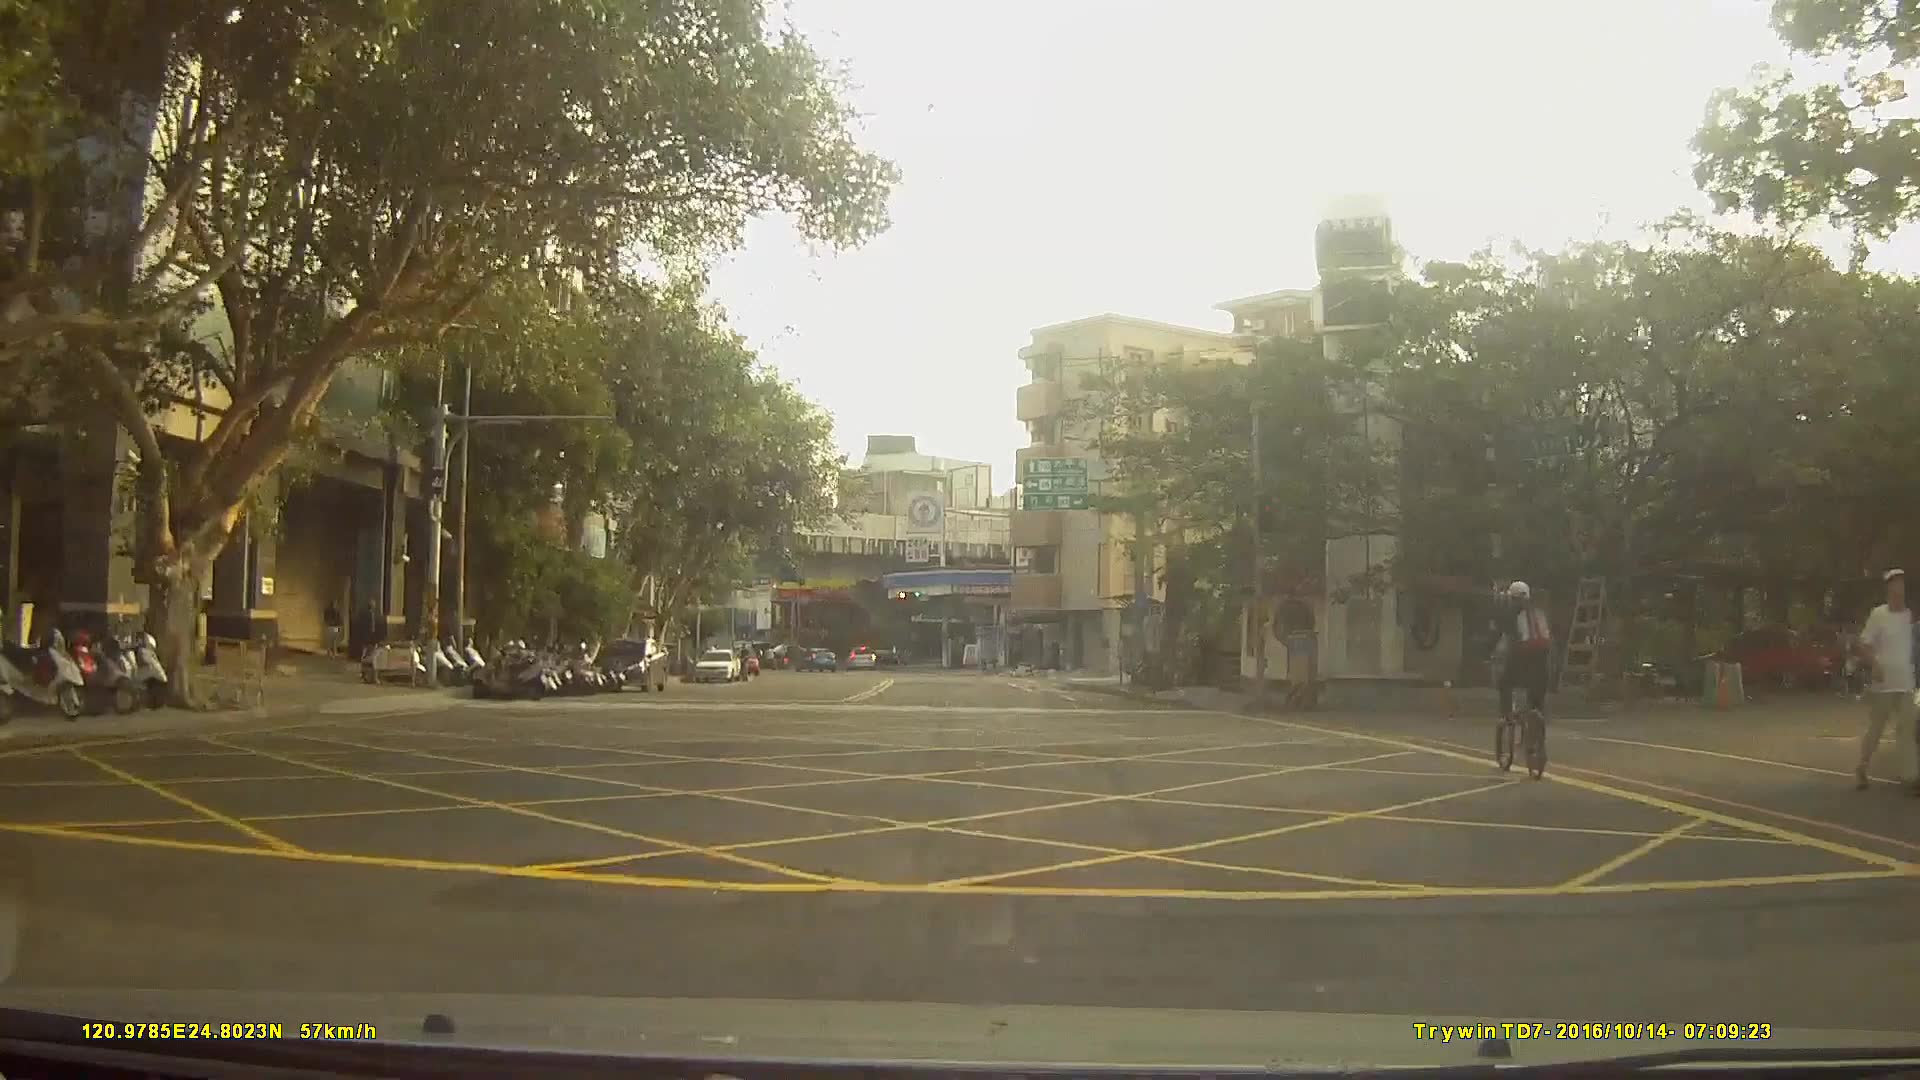pedestrian: (1851, 569, 1919, 791), (321, 599, 343, 663)
rider: (1479, 578, 1551, 784)
vehicle: (1691, 621, 1833, 692), (594, 636, 667, 691), (692, 648, 739, 685), (795, 644, 835, 671), (846, 642, 878, 669)
